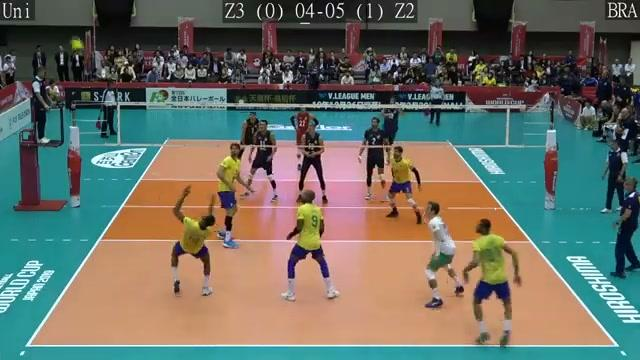ball: (71, 38, 86, 54)
